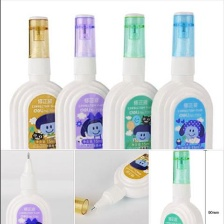correction_fluid: (149, 9, 216, 171), (53, 12, 118, 170), (99, 11, 163, 171), (7, 15, 68, 170), (88, 148, 167, 212), (157, 149, 206, 224), (3, 149, 52, 224)
